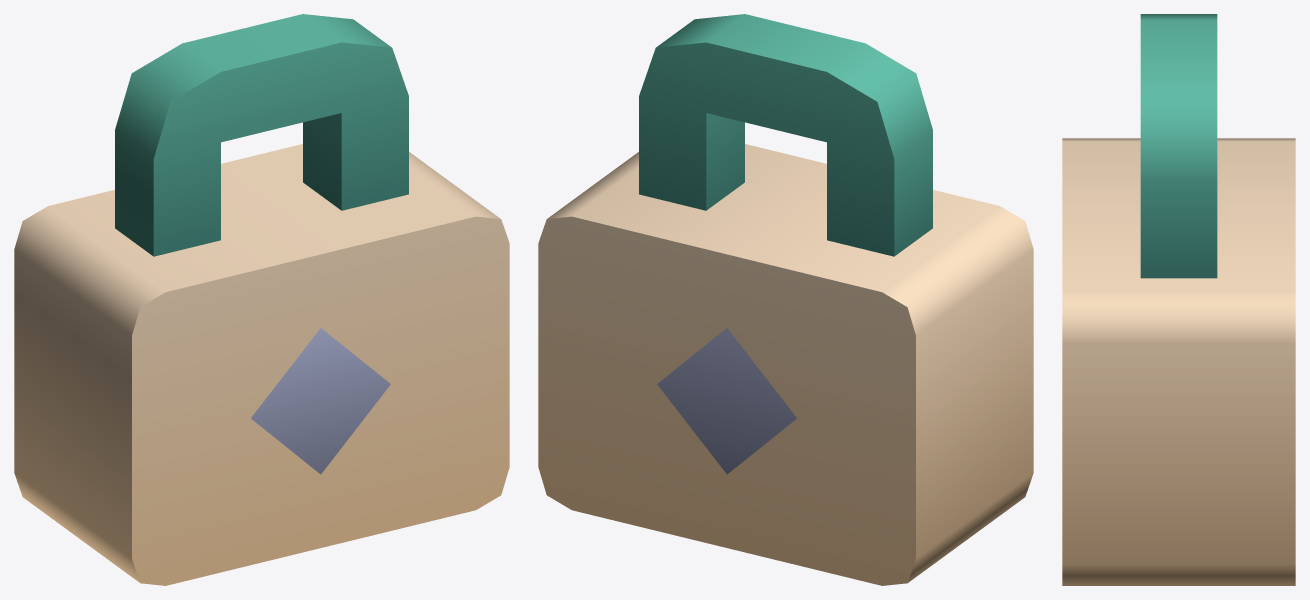
File: lock.glb
The picture shows the model from 3 angles, left to right: view 1: azimuth 30°, elevation 25°; view 2: azimuth 150°, elevation 25°; view 3: azimuth 270°, elevation 25°; orthographic projection.
Parts seen in each view (by area): view 1: lock; view 2: lock; view 3: lock.
Boxes of the visible parts, x1=… form: lock: x1=14, y1=14, x2=509, y2=585; lock: x1=538, y1=14, x2=1033, y2=585; lock: x1=1062, y1=14, x2=1295, y2=585.
Size of the model in its own units: 0.3433 by 0.4012 by 0.1853.
